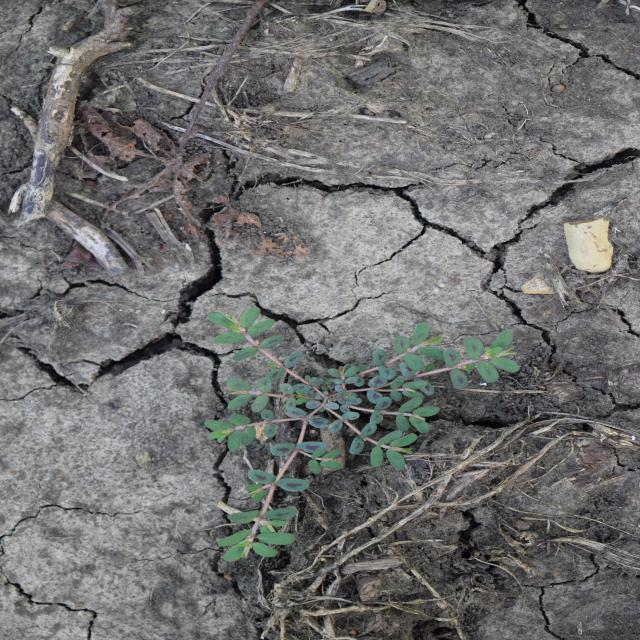SpottedSpurge: (198, 302, 523, 564)
